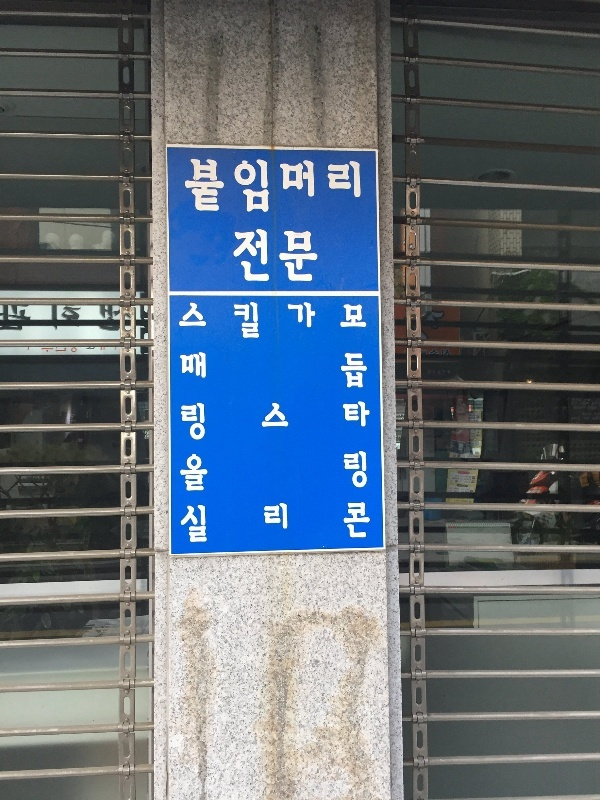text: (193, 158, 208, 223), (209, 158, 224, 223), (225, 158, 240, 223), (241, 158, 256, 223), (257, 158, 272, 223), (273, 158, 288, 223), (289, 158, 304, 223), (305, 158, 320, 223), (321, 158, 336, 223), (337, 158, 352, 223), (241, 227, 256, 286), (257, 227, 272, 286), (273, 227, 288, 286), (289, 227, 304, 286), (305, 227, 318, 286), (193, 500, 208, 548), (209, 500, 224, 548), (225, 500, 240, 548), (241, 500, 256, 548), (257, 500, 272, 548), (273, 500, 288, 548), (289, 500, 304, 548), (305, 500, 320, 548), (321, 500, 336, 548), (337, 500, 352, 548), (353, 500, 368, 548), (193, 449, 208, 496), (209, 449, 224, 496), (225, 449, 240, 496), (241, 449, 256, 496), (257, 449, 272, 496), (273, 449, 288, 496), (289, 449, 304, 496), (305, 449, 320, 496), (321, 449, 336, 496), (337, 449, 352, 496), (353, 449, 368, 496), (193, 301, 208, 347), (209, 301, 224, 347), (225, 301, 240, 347), (241, 301, 256, 347), (257, 301, 272, 347), (273, 301, 288, 347), (289, 301, 304, 347), (305, 301, 320, 347), (321, 301, 336, 347), (337, 301, 352, 347), (353, 301, 368, 347), (193, 400, 208, 445), (209, 400, 224, 445), (225, 400, 240, 445), (241, 400, 256, 445), (257, 400, 272, 445), (273, 400, 288, 445), (289, 400, 304, 445), (305, 400, 320, 445), (321, 400, 336, 445), (337, 400, 352, 445), (353, 400, 368, 445), (182, 158, 192, 223), (353, 158, 363, 223), (353, 352, 369, 392), (179, 449, 192, 496), (193, 352, 208, 392), (209, 352, 224, 392), (225, 352, 240, 392), (241, 352, 256, 392), (257, 352, 272, 392), (273, 352, 288, 392), (289, 352, 304, 392), (305, 352, 320, 392), (321, 352, 336, 392), (337, 352, 352, 392), (179, 301, 192, 347), (17, 299, 32, 338), (33, 299, 48, 338), (49, 299, 64, 338), (65, 299, 80, 338), (81, 299, 96, 338), (97, 299, 112, 338), (180, 500, 192, 548), (2, 299, 16, 338), (180, 400, 192, 445), (179, 352, 192, 392), (233, 227, 240, 286), (113, 299, 122, 338), (369, 500, 372, 548), (369, 400, 370, 445)
